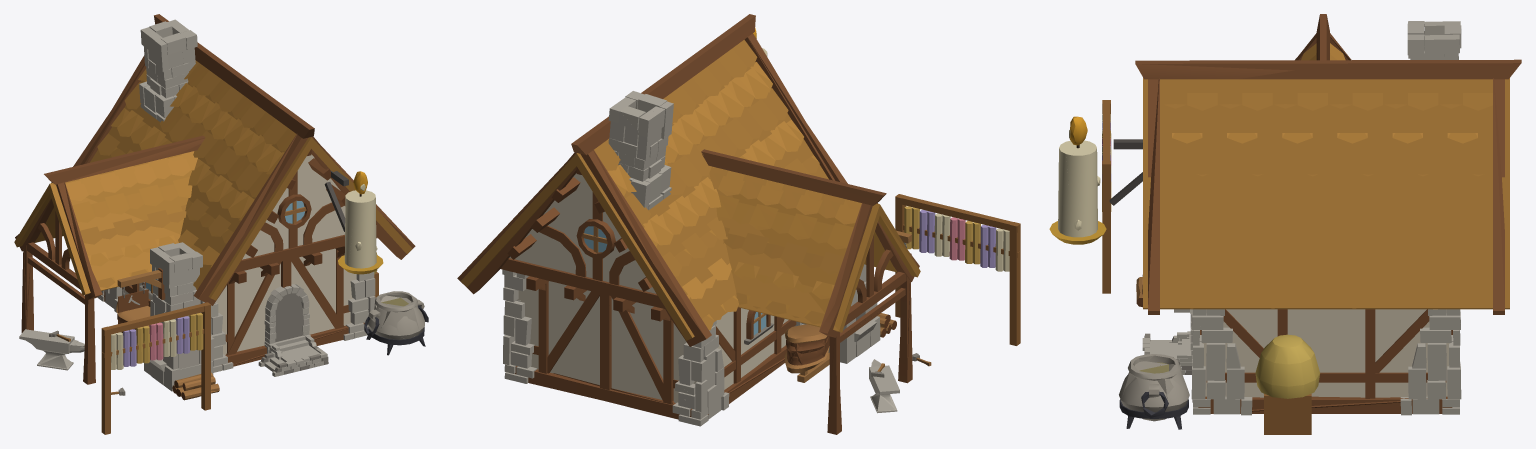
File: chandlery.glb
The picture shows the model from 3 angles, left to right: view 1: azimuth 30°, elevation 25°; view 2: azimuth 150°, elevation 25°; view 3: azimuth 270°, elevation 25°; orthographic projection. The views are drawn at different scales.
Visible parts, largest first — view 1: building-chandlery, building-chandlery-far; view 2: building-chandlery, building-chandlery-far; view 3: building-chandlery, building-chandlery-far.
Part boxes in pixels (x1,y1,x2,y2): building-chandlery: (14,14,428,434); building-chandlery-far: (17,21,423,392); building-chandlery: (461,14,1020,434); building-chandlery-far: (457,36,919,434); building-chandlery: (1049,14,1521,434); building-chandlery-far: (1066,26,1504,413).
Bounding box in the file's own units: 5.19 × 3.71 × 4.95.
